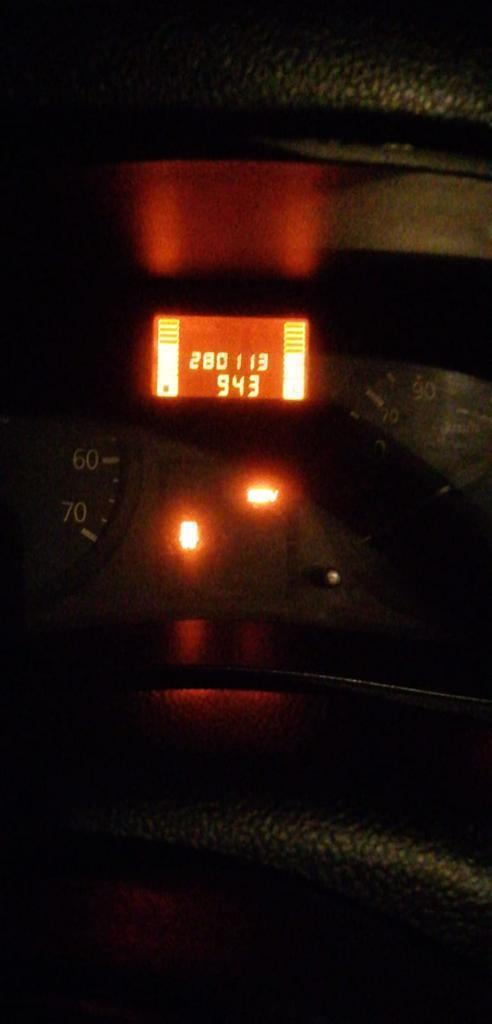0: (216, 351, 228, 370)
1: (235, 351, 242, 371), (249, 351, 255, 371)
2: (189, 350, 201, 370)
3: (247, 373, 259, 398), (258, 351, 269, 372)
4: (231, 374, 244, 397)
8: (202, 350, 215, 371)
9: (216, 372, 229, 397)
odometer: (145, 305, 313, 406)
